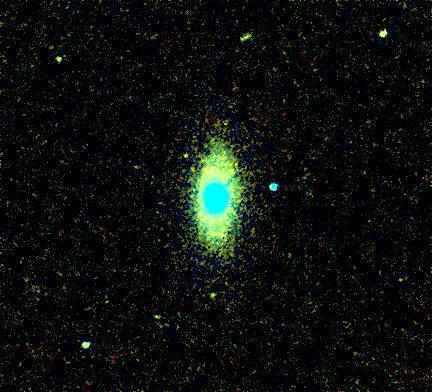star: (173, 140, 203, 170)
